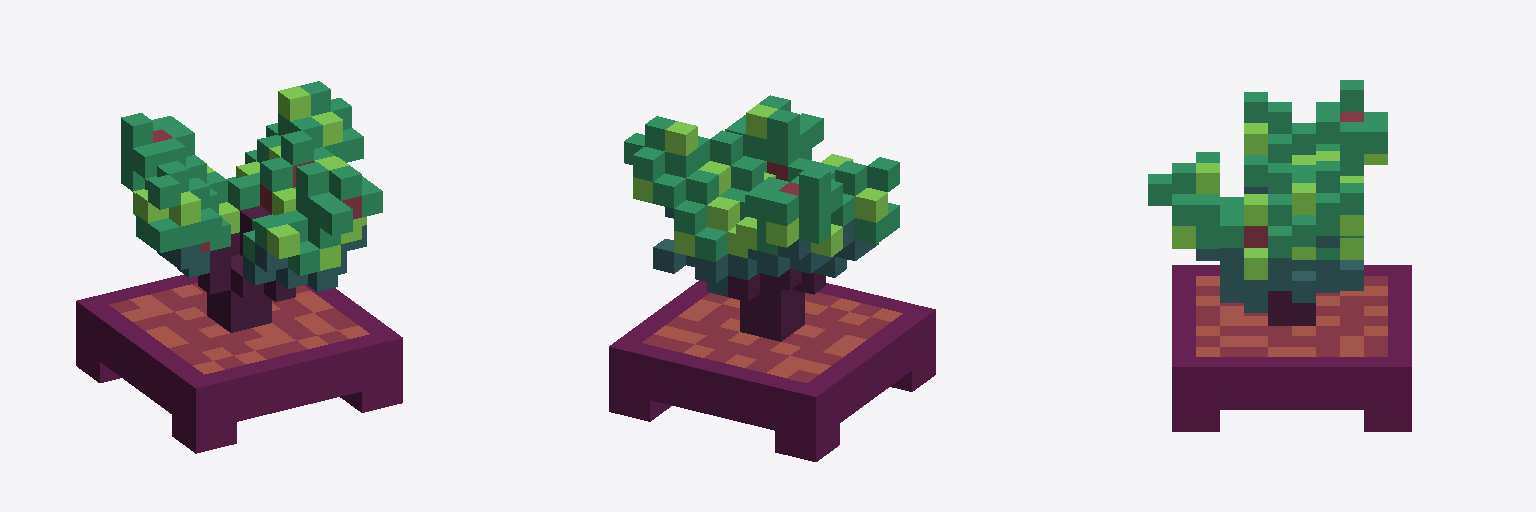
The picture shows the model from 3 angles: view 1: azimuth 30°, elevation 25°; view 2: azimuth 150°, elevation 25°; view 3: azimuth 270°, elevation 25°; orthographic projection.
Visible parts, largest first — view 1: Plant_Plant.001; view 2: Plant_Plant.001; view 3: Plant_Plant.001.
Boxes of the visible parts, x1,y1,x2,y2 form: Plant_Plant.001: [76, 81, 402, 453]; Plant_Plant.001: [609, 95, 935, 461]; Plant_Plant.001: [1148, 80, 1411, 431].
Bounding box in the file's own units: 1.1 × 1.2 × 1.1.
Materials: 1 (1 with a texture image).